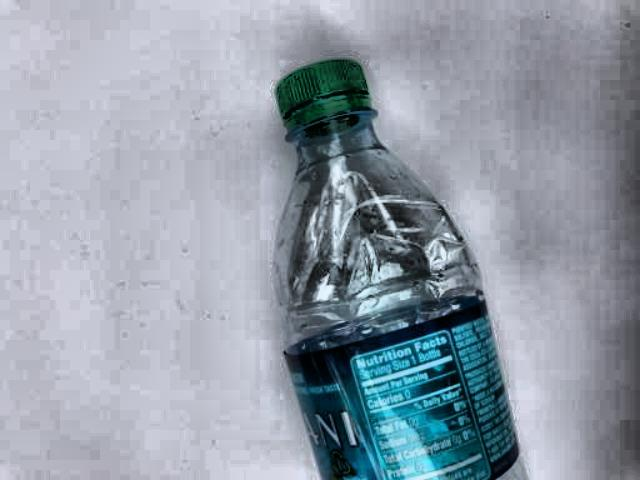Bottles: (226, 34, 537, 480)
